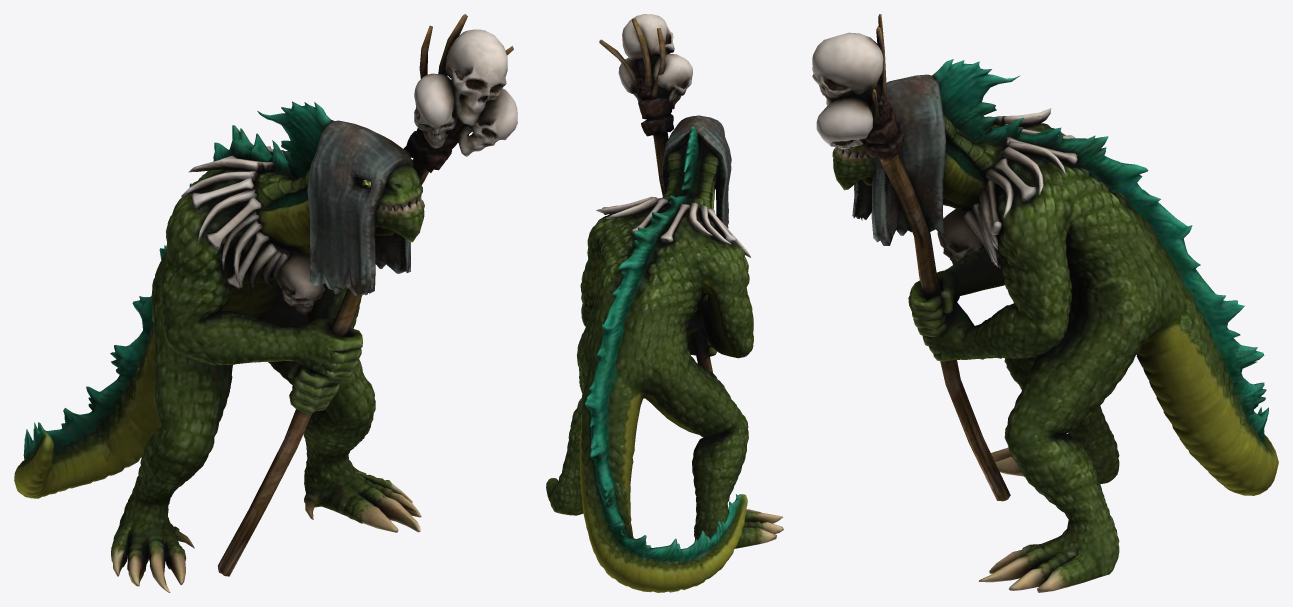
The model's file is MZ4250 - Lizardfolk Shaman.glb.
3 views of the same model, side by side, from view 1: azimuth 30°, elevation 25°; view 2: azimuth 150°, elevation 25°; view 3: azimuth 270°, elevation 25° (orthographic). The views are drawn at different scales.
Parts seen in each view (by area): view 1: Lizardfolk Shaman.001; view 2: Lizardfolk Shaman.001; view 3: Lizardfolk Shaman.001.
Boxes of the visible parts, box(x1,y1,x2,y2) form: Lizardfolk Shaman.001: box(14, 14, 517, 592); Lizardfolk Shaman.001: box(546, 14, 783, 592); Lizardfolk Shaman.001: box(812, 14, 1278, 592).
Bounding box in the file's own units: 25.68 × 41.35 × 31.28.
Materials: 1 (1 with a texture image).
